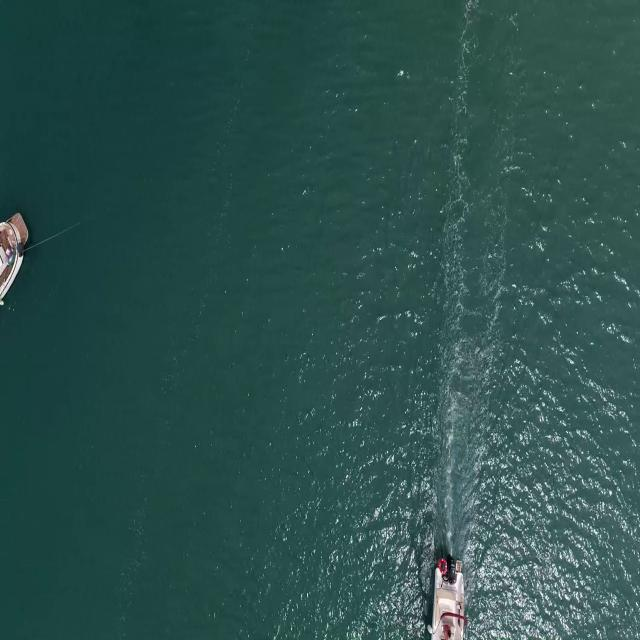boat: (427, 571, 468, 640)
life_buoy: (438, 556, 450, 575)
person: (444, 621, 454, 640)
